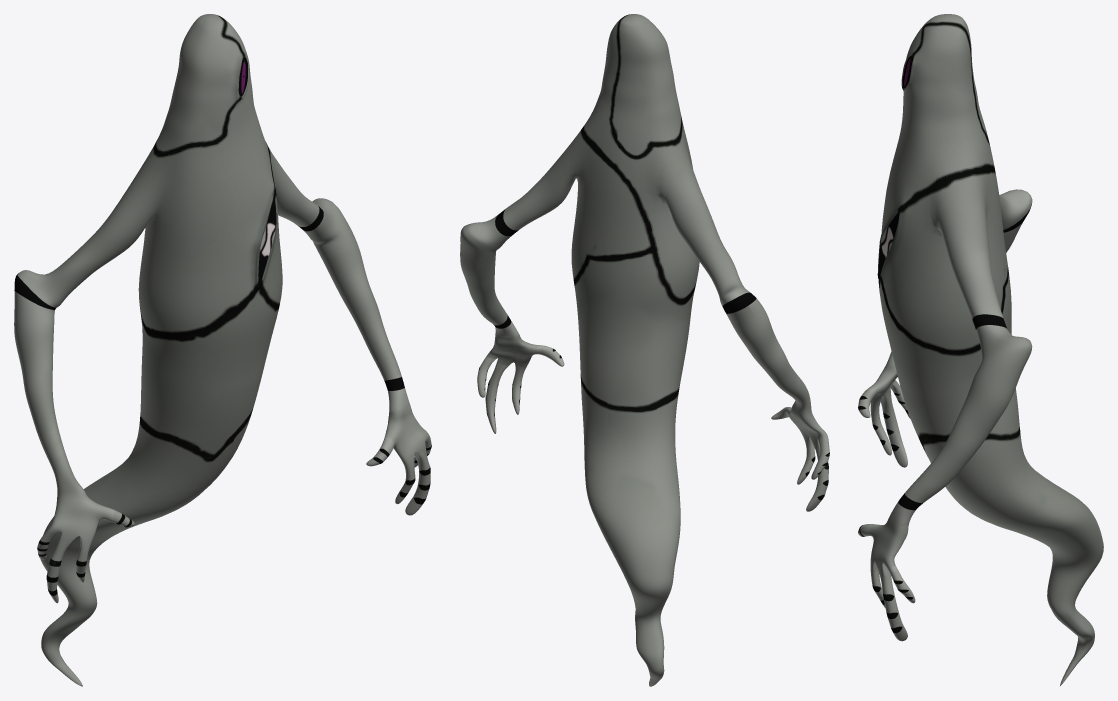
The model's file is Prueba_02.fbx.
The picture shows the model from 3 angles, left to right: view 1: azimuth 30°, elevation 25°; view 2: azimuth 150°, elevation 25°; view 3: azimuth 270°, elevation 25°; orthographic projection. The views are drawn at different scales.
Parts seen in each view (by area): view 1: eppaaa:polySurface1; view 2: eppaaa:polySurface1; view 3: eppaaa:polySurface1.
Part boxes in pixels (x1,y1,x2,y2): eppaaa:polySurface1: (14,14,431,686); eppaaa:polySurface1: (460,14,829,686); eppaaa:polySurface1: (858,14,1103,685).
Bounding box in the file's own units: 27.7 × 46.82 × 14.73.
Materials: 1 (1 with a texture image).
